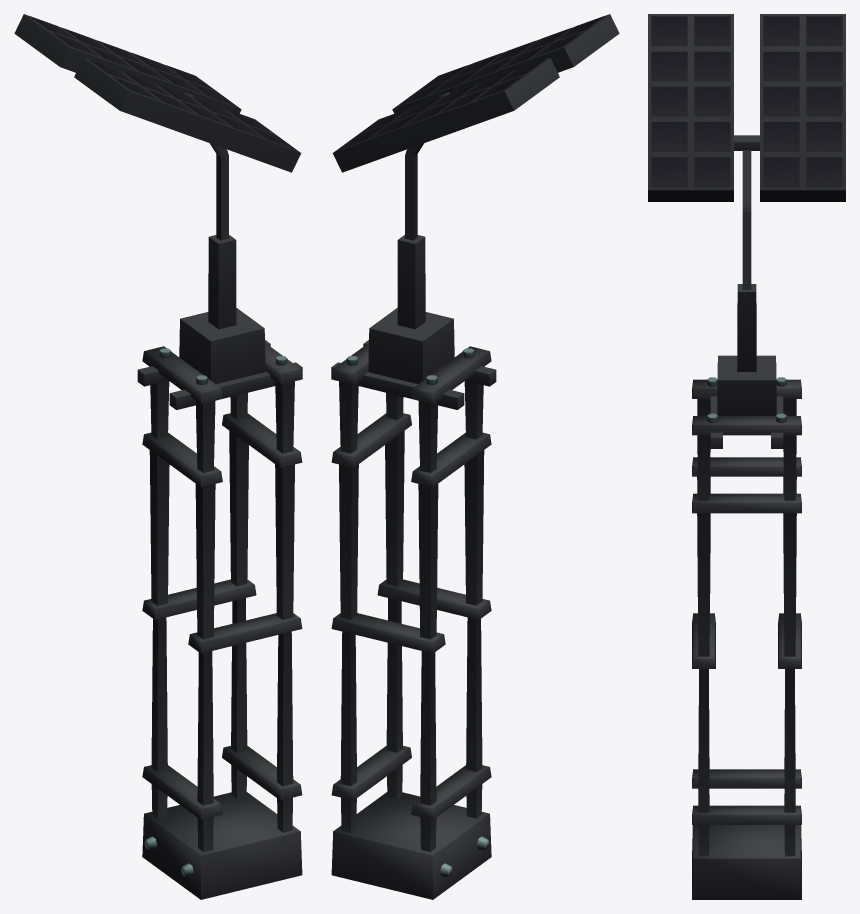
File: Spotlight_Support_1B.fbx
3 renders of one model, left to right at view 1: azimuth 30°, elevation 25°; view 2: azimuth 150°, elevation 25°; view 3: azimuth 270°, elevation 25°, orthographic. The views are drawn at different scales.
Parts seen in each view (by area): view 1: Spotlight_Support_1B, Spotlight_1B; view 2: Spotlight_Support_1B, Spotlight_1B; view 3: Spotlight_Support_1B, Spotlight_1B.
Part boxes in pixels (x1,y1,x2,y2): Spotlight_Support_1B: (137,92,302,899); Spotlight_1B: (14,14,301,172); Spotlight_Support_1B: (331,92,496,899); Spotlight_1B: (332,14,619,172); Spotlight_Support_1B: (692,135,801,899); Spotlight_1B: (648,14,845,201).
Size of the model in its own units: 5.44 by 20.42 by 4.6.
